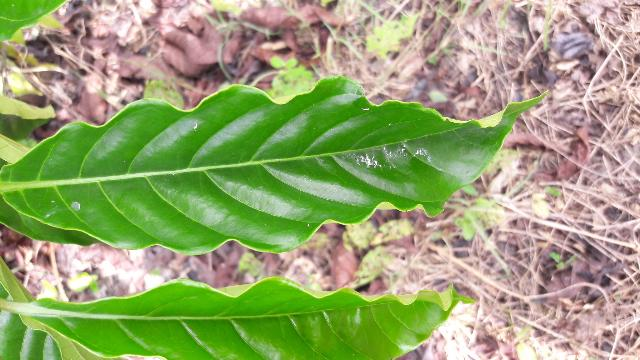healthy: (1, 76, 545, 255)
